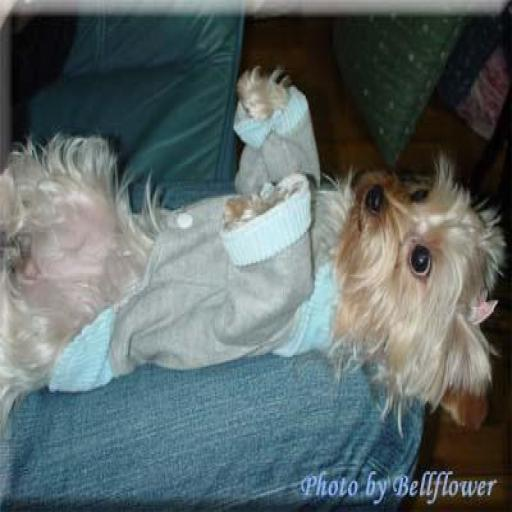dog_face: (355, 158, 499, 421)
